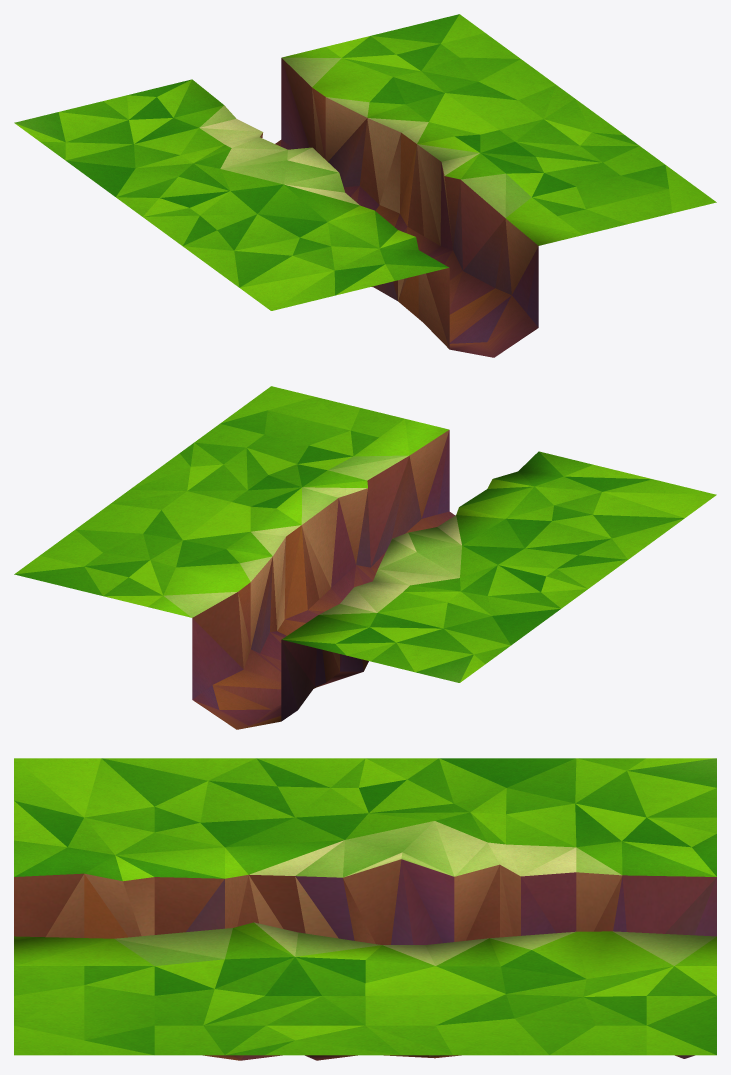
The model's file is Terrain-part-09.fbx.
3 views of the same model, one above another, from view 1: azimuth 30°, elevation 25°; view 2: azimuth 150°, elevation 25°; view 3: azimuth 270°, elevation 25° (orthographic). The views are drawn at different scales.
Visible parts, largest first — view 1: Terrain-part-09; view 2: Terrain-part-09; view 3: Terrain-part-09.
Part boxes in pixels (<box>): Terrain-part-09: <box>14,14,716,357</box>; Terrain-part-09: <box>14,386,716,729</box>; Terrain-part-09: <box>14,758,716,1060</box>.
Size of the model in its own units: 6 by 1.58 by 6.
